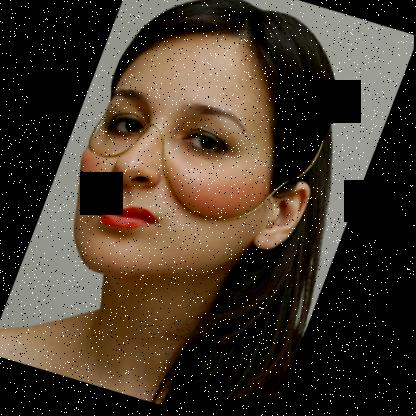Female: (42, 0, 358, 336)
